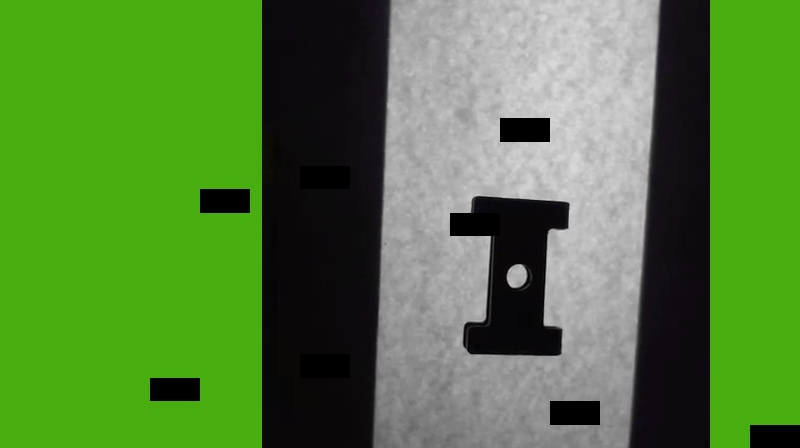O002: (458, 196, 572, 364)
